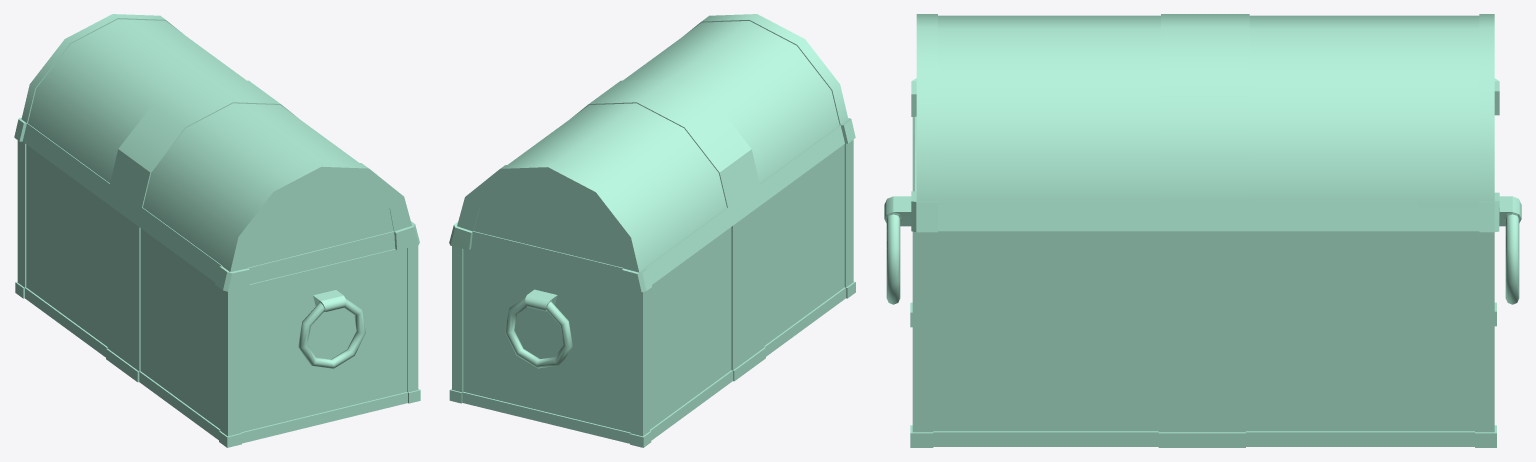
The model's file is coffre.fbx.
3 renders of one model, left to right at view 1: azimuth 30°, elevation 25°; view 2: azimuth 150°, elevation 25°; view 3: azimuth 270°, elevation 25°, orthographic. The views are drawn at different scales.
Visible parts, largest first — view 1: Cylinder001, Box001, Torus001; view 2: Cylinder001, Box001, Torus001; view 3: Box001, Cylinder001, Torus001.
Boxes of the visible parts, bbox=[...] form: Cylinder001: bbox=[14, 14, 419, 291]; Box001: bbox=[15, 140, 420, 447]; Torus001: bbox=[298, 290, 365, 368]; Cylinder001: bbox=[449, 14, 855, 292]; Box001: bbox=[449, 139, 855, 447]; Torus001: bbox=[505, 289, 572, 368]; Box001: bbox=[910, 116, 1496, 447]; Cylinder001: bbox=[911, 14, 1499, 232]; Torus001: bbox=[884, 196, 1521, 304].
Bounding box in the file's own units: 41.06 × 50.9 × 82.96.
